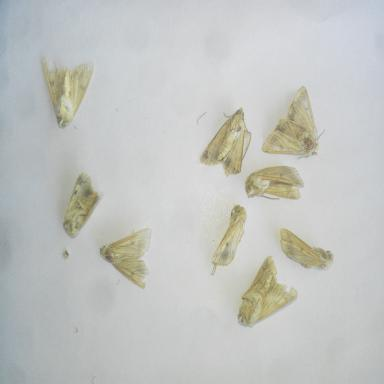abw: (257, 81, 328, 164), (235, 251, 299, 331), (37, 51, 97, 132), (198, 104, 254, 180), (97, 225, 155, 293), (206, 200, 252, 282), (60, 168, 106, 242), (242, 161, 312, 208), (278, 224, 336, 273)
